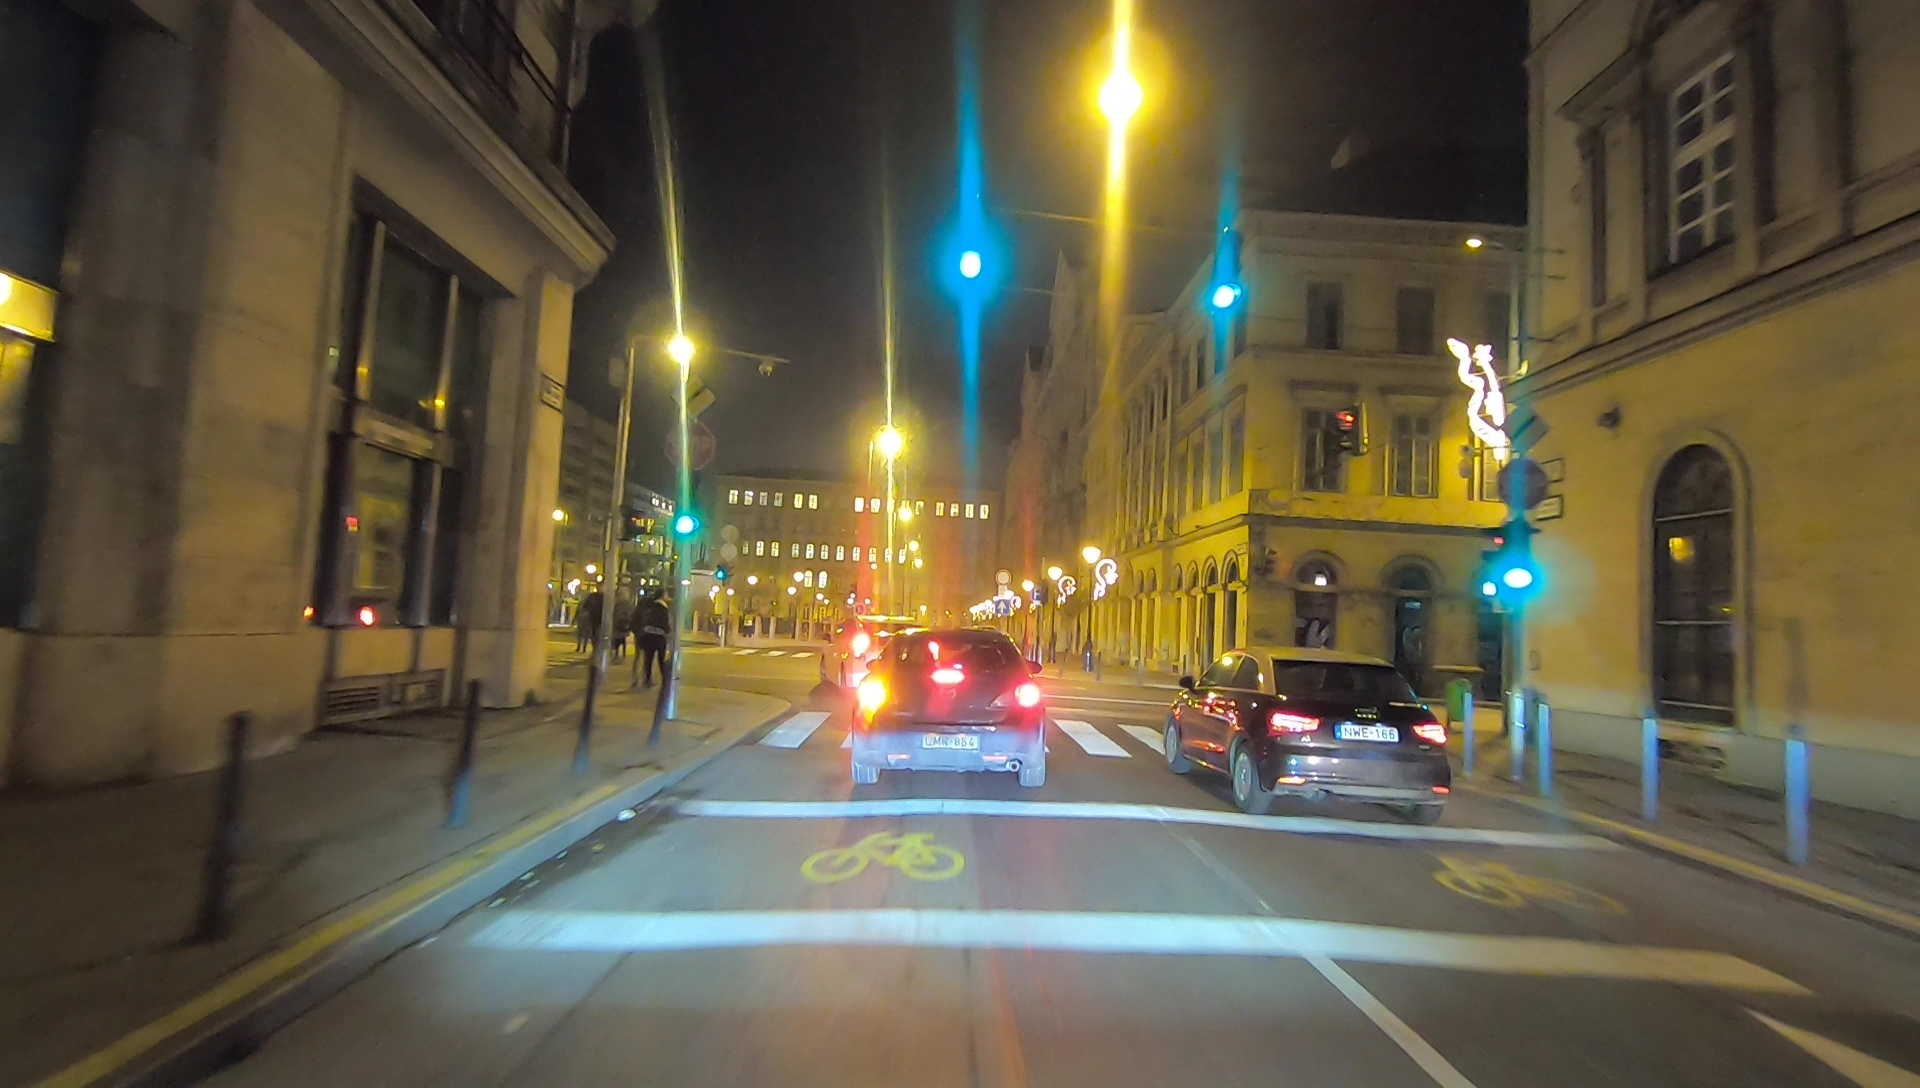person: (638, 593, 667, 691), (573, 586, 602, 660)
